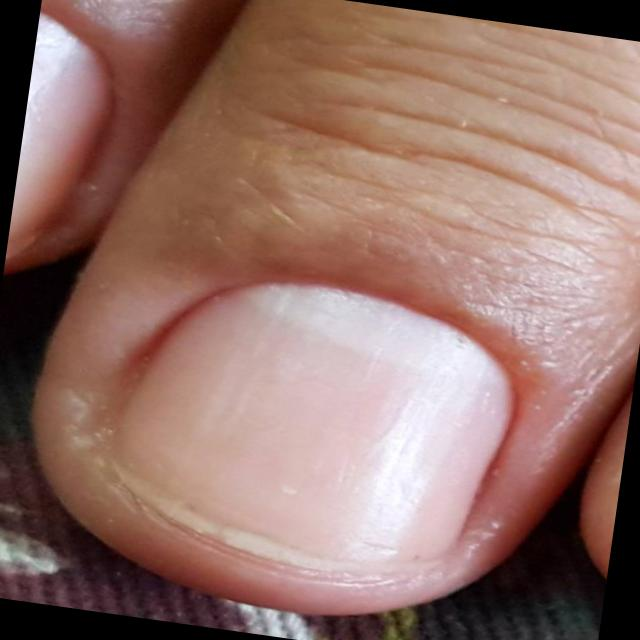Nail: (118, 284, 512, 570), (7, 14, 111, 256)
